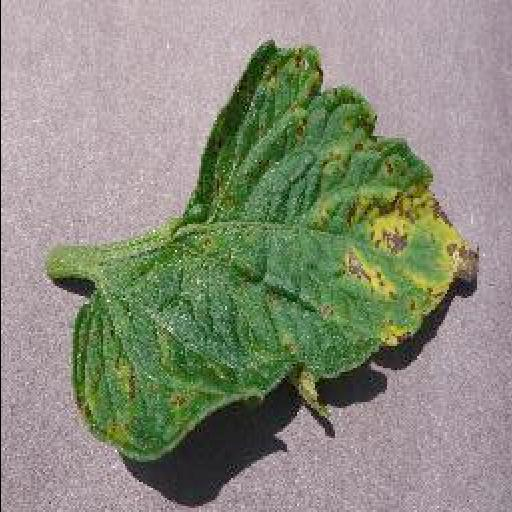disease_tomato: (70, 38, 478, 459)
